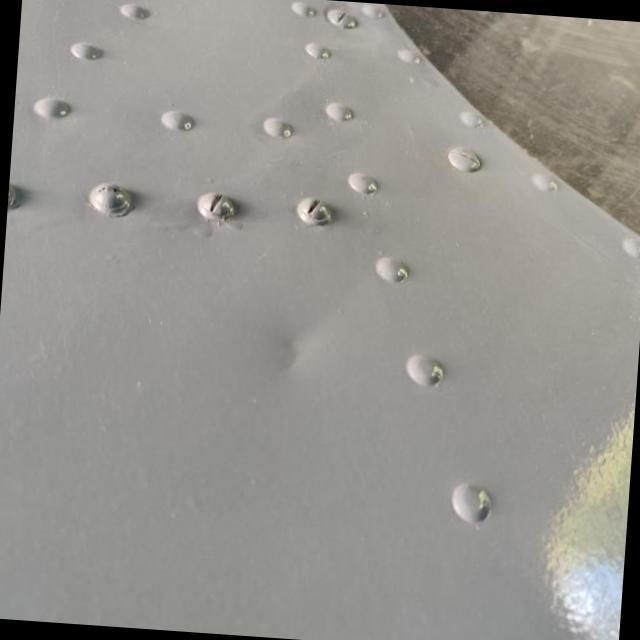Dent: (255, 316, 331, 398)
